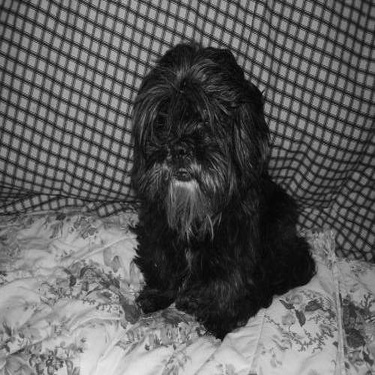dog: (109, 32, 315, 343)
